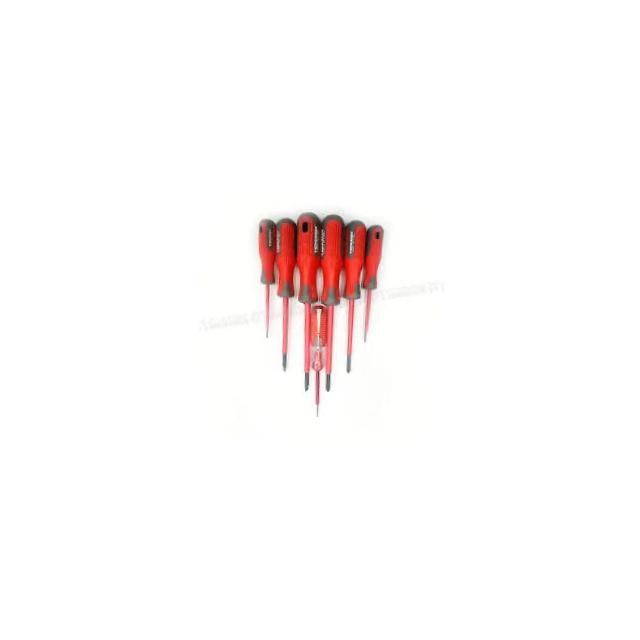screwdriver: (286, 210, 324, 392), (315, 211, 345, 392), (268, 215, 298, 373), (337, 218, 366, 374), (249, 218, 278, 342), (360, 222, 385, 345), (302, 305, 328, 420)
